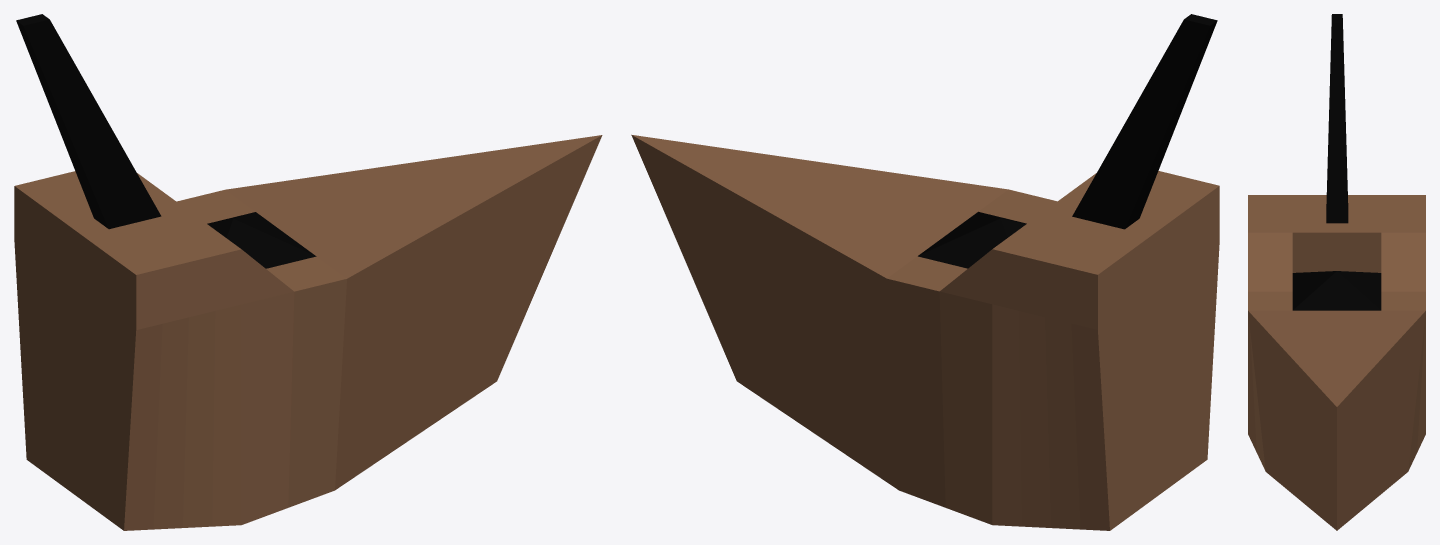
The model's file is Pirate.fbx.
3 views of the same model, side by side, from view 1: azimuth 30°, elevation 25°; view 2: azimuth 150°, elevation 25°; view 3: azimuth 270°, elevation 25° (orthographic). The views are drawn at different scales.
Parts seen in each view (by area): view 1: Cube; view 2: Cube; view 3: Cube.
Part boxes in pixels (x1,y1,x2,y2): Cube: [14, 14, 602, 530]; Cube: [631, 14, 1219, 530]; Cube: [1248, 14, 1425, 530].
Size of the model in its own units: 553 by 450 by 200.
